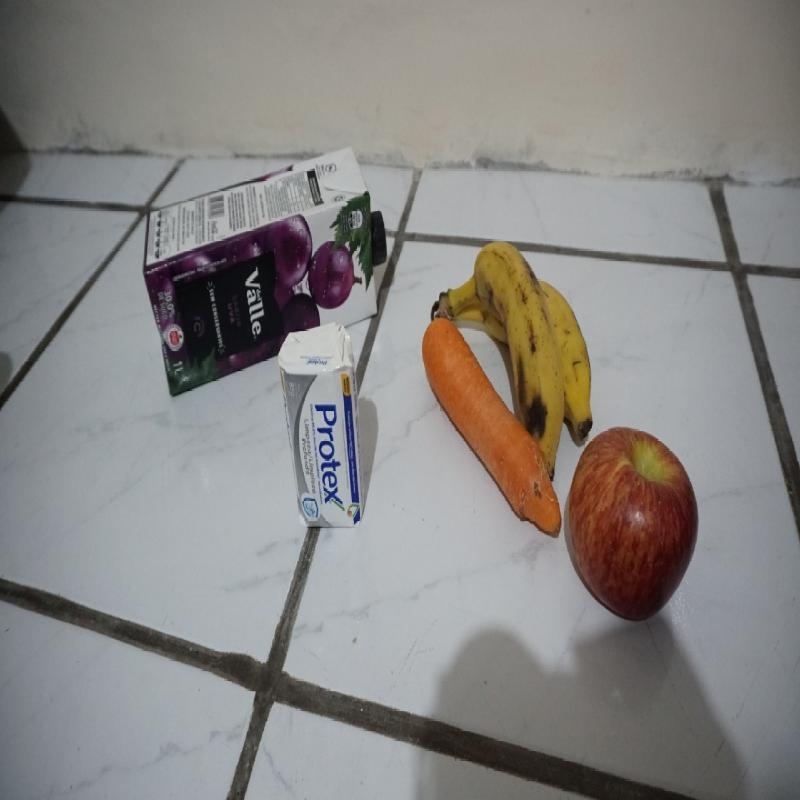Apple: (567, 439, 702, 627)
Banana: (514, 243, 594, 436)
Carrot: (421, 318, 515, 516)
Soap: (278, 322, 363, 526)
